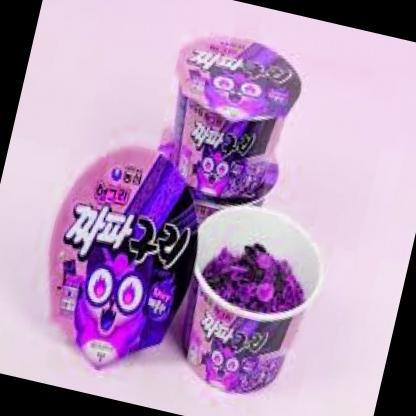Ramen: (27, 134, 220, 382), (164, 201, 326, 397), (154, 22, 305, 204)
